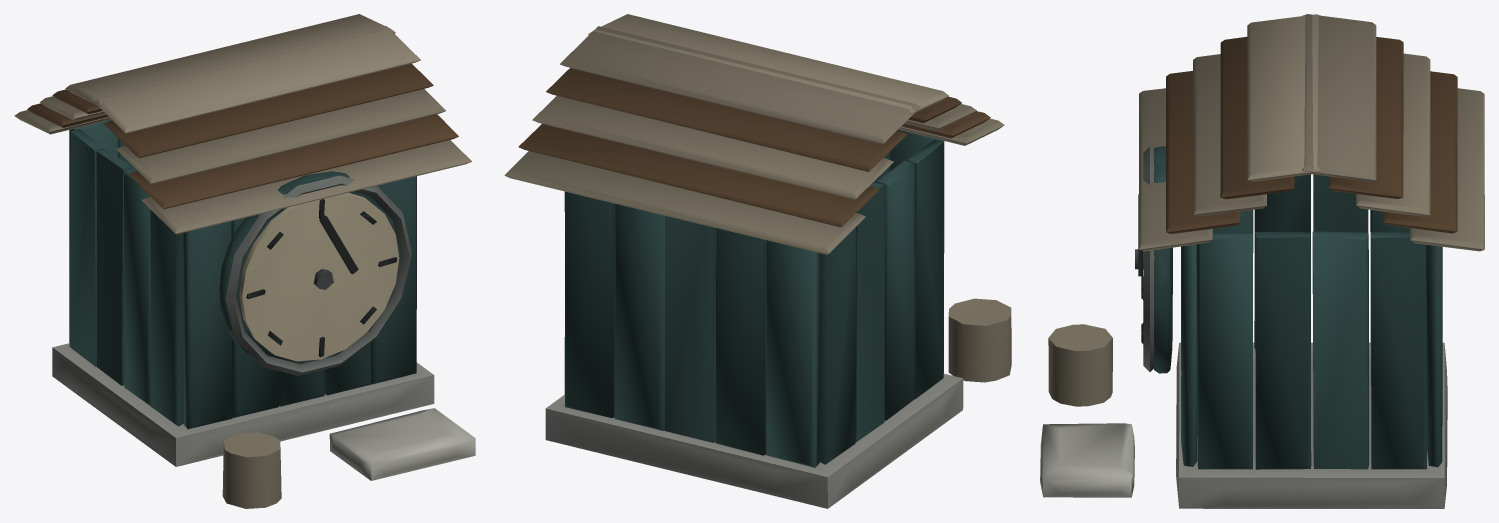
Rendered from gauge_dial_shed_a_lod1.glb.
3 views of the same model, side by side, from view 1: azimuth 30°, elevation 25°; view 2: azimuth 150°, elevation 25°; view 3: azimuth 270°, elevation 25° (orthographic). The views are drawn at different scales.
Parts seen in each view (by area): view 1: Surface.001; view 2: Surface.001; view 3: Surface.001.
Boxes of the visible parts, x1,y1,x2,y2 form: Surface.001: (14, 14, 475, 508); Surface.001: (504, 14, 1011, 508); Surface.001: (1040, 14, 1484, 508).
Bounding box in the file's own units: 2.71 × 2.88 × 3.27.
